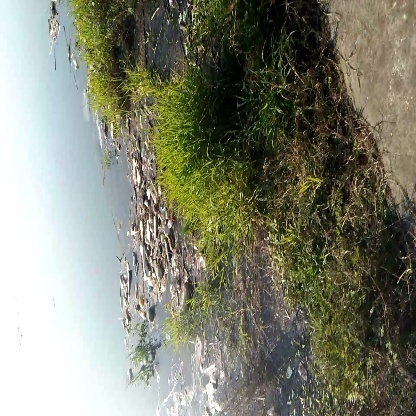grass: (168, 104, 238, 226)
